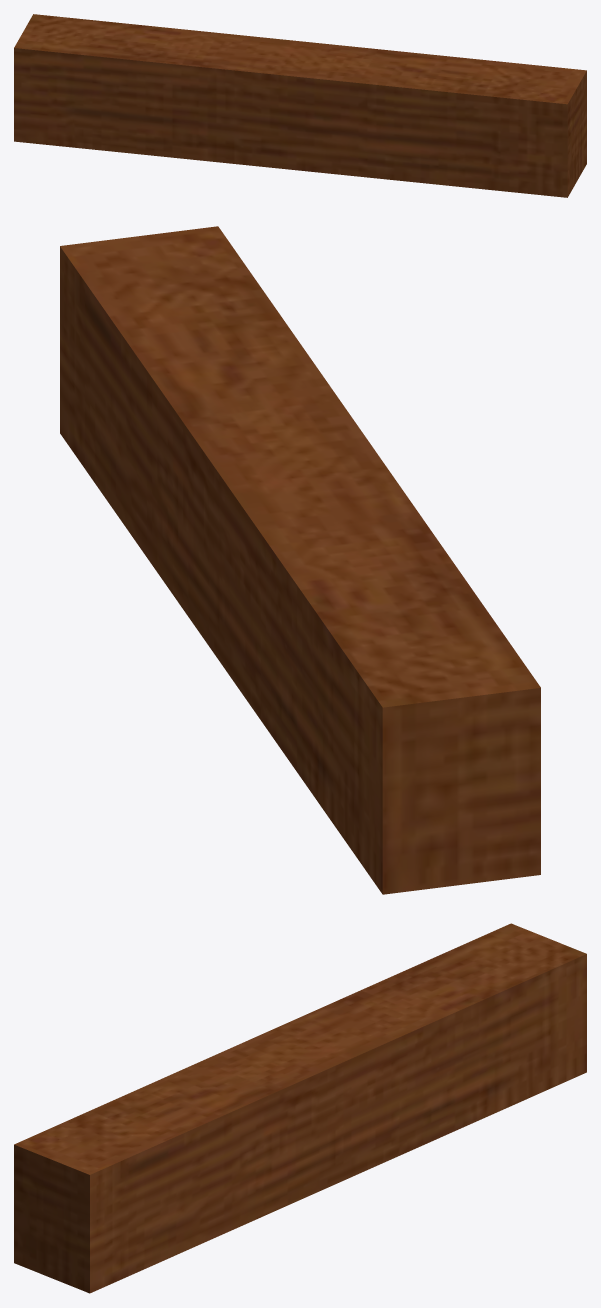
The model's file is frame__rear_upright_neg.glb.
The picture shows the model from 3 angles, top to bottom: view 1: azimuth 30°, elevation 25°; view 2: azimuth 150°, elevation 25°; view 3: azimuth 270°, elevation 25°; orthographic projection. The views are drawn at different scales.
Visible parts, largest first — view 1: geometry_0; view 2: geometry_0; view 3: geometry_0.
Boxes of the visible parts, x1=… form: geometry_0: x1=14, y1=14, x2=586, y2=197; geometry_0: x1=60, y1=226, x2=540, y2=894; geometry_0: x1=14, y1=923, x2=586, y2=1293.
Bounding box in the file's own units: 0.2275 × 0.05 × 0.219.
Materials: 1 (1 with a texture image).
